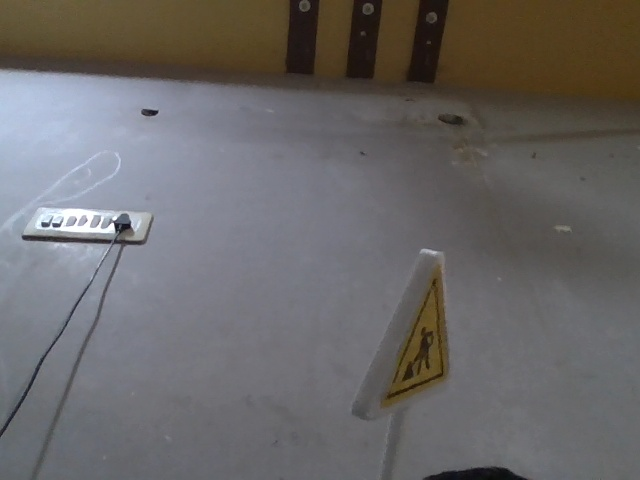workinprogress: (368, 280, 460, 427)
